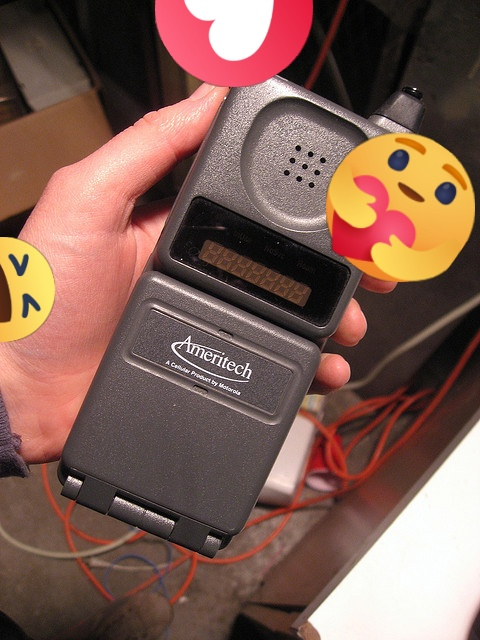care: (326, 133, 475, 282)
haha: (0, 237, 55, 342)
love: (155, 0, 313, 87)
